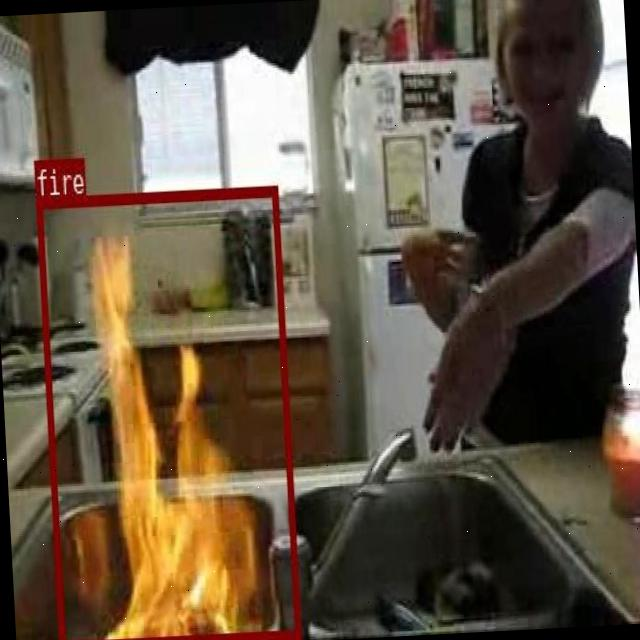fire: (35, 185, 299, 640)
